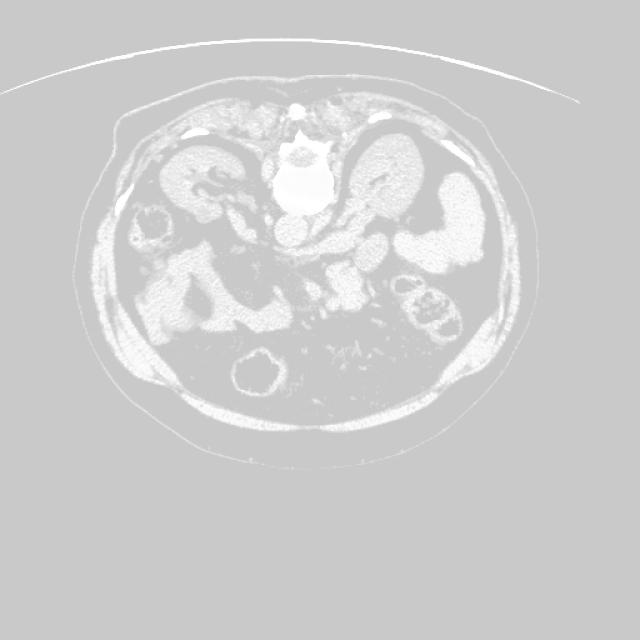cysts: (80, 75, 532, 461)
